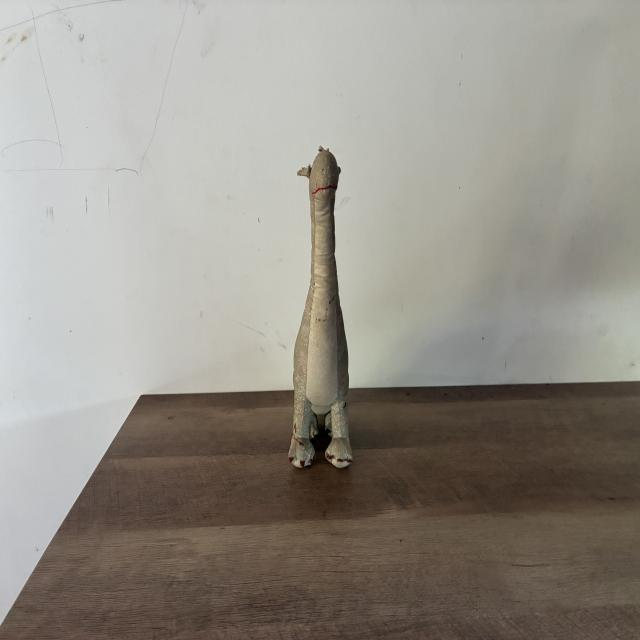dinosaur: (288, 146, 353, 469)
